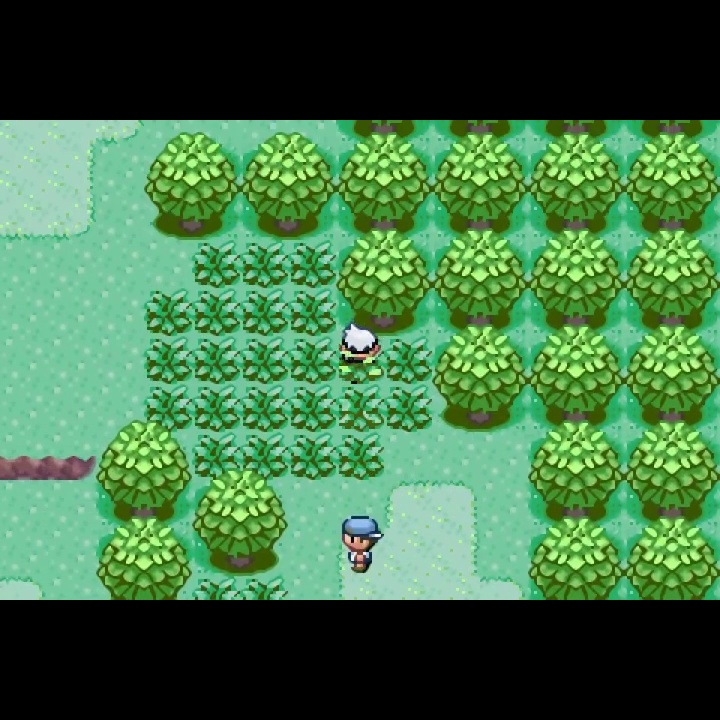grass: (384, 384, 435, 434), (144, 334, 193, 386), (240, 336, 290, 386), (192, 336, 241, 387), (240, 240, 289, 290), (288, 240, 337, 290), (289, 289, 339, 338), (192, 383, 242, 432), (240, 433, 290, 482), (290, 432, 338, 483), (241, 384, 290, 433), (144, 384, 194, 432), (288, 384, 338, 432), (336, 434, 384, 484), (241, 290, 290, 338), (385, 335, 433, 384), (290, 335, 337, 385), (337, 384, 384, 434), (192, 433, 240, 481), (192, 242, 241, 289), (194, 289, 241, 337), (146, 287, 192, 336), (239, 576, 289, 600), (193, 575, 240, 600)
npc: (337, 513, 388, 578), (339, 322, 382, 386)
wall: (238, 131, 338, 240), (336, 228, 434, 338), (432, 325, 530, 434), (190, 469, 288, 576), (142, 131, 239, 239), (94, 419, 191, 521), (527, 421, 625, 520), (337, 133, 434, 233), (433, 132, 530, 231), (529, 324, 625, 423), (432, 229, 529, 326), (624, 419, 720, 517), (529, 228, 625, 326), (624, 227, 720, 325), (625, 323, 720, 422), (529, 131, 625, 228), (625, 133, 720, 229), (624, 514, 720, 600), (94, 518, 195, 599), (529, 516, 623, 599), (434, 119, 530, 142), (530, 119, 626, 142), (625, 120, 719, 143), (339, 120, 434, 141)
